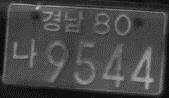0: (114, 12, 132, 37)
4: (129, 45, 155, 90), (101, 43, 125, 87)
5: (74, 40, 96, 85)
8: (92, 12, 111, 35)
9: (44, 39, 70, 83)
경남_O: (40, 8, 84, 33)
나: (9, 37, 39, 70)
